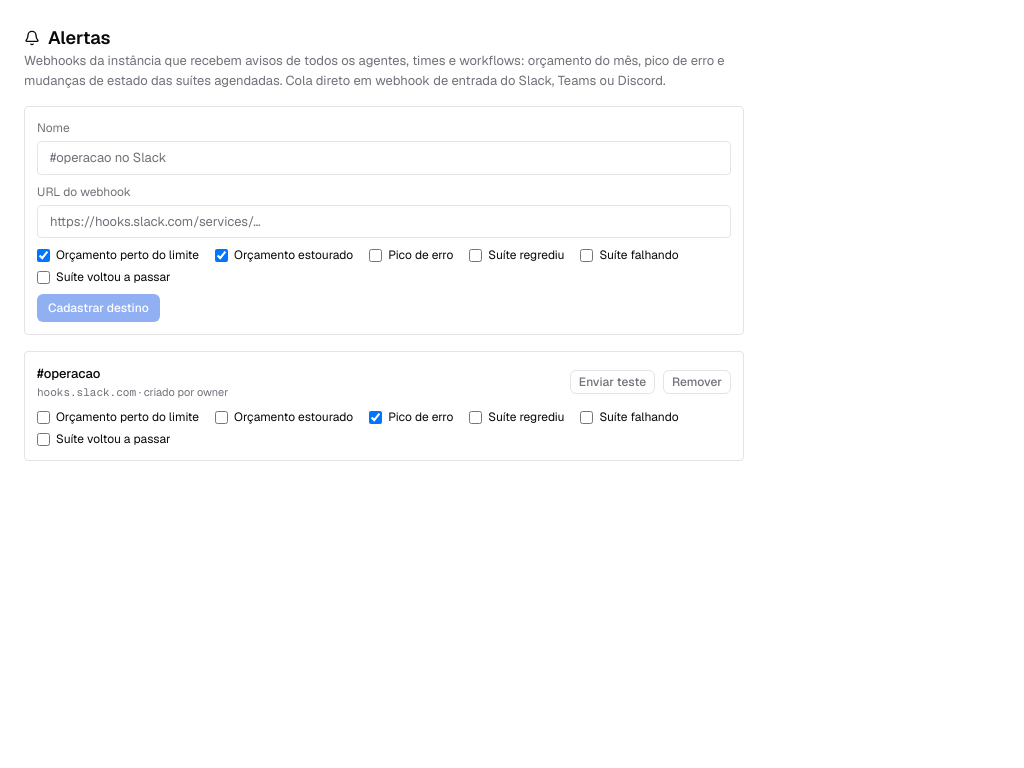
Test case: página de alertas › cadastra destino com os eventos marcados e mostra o segredo uma vez
The image size is (1024, 768).
Type "#financeiro" into the field labelled "Nome" at {"x": 384, "y": 158}, box [37,141,731,174]
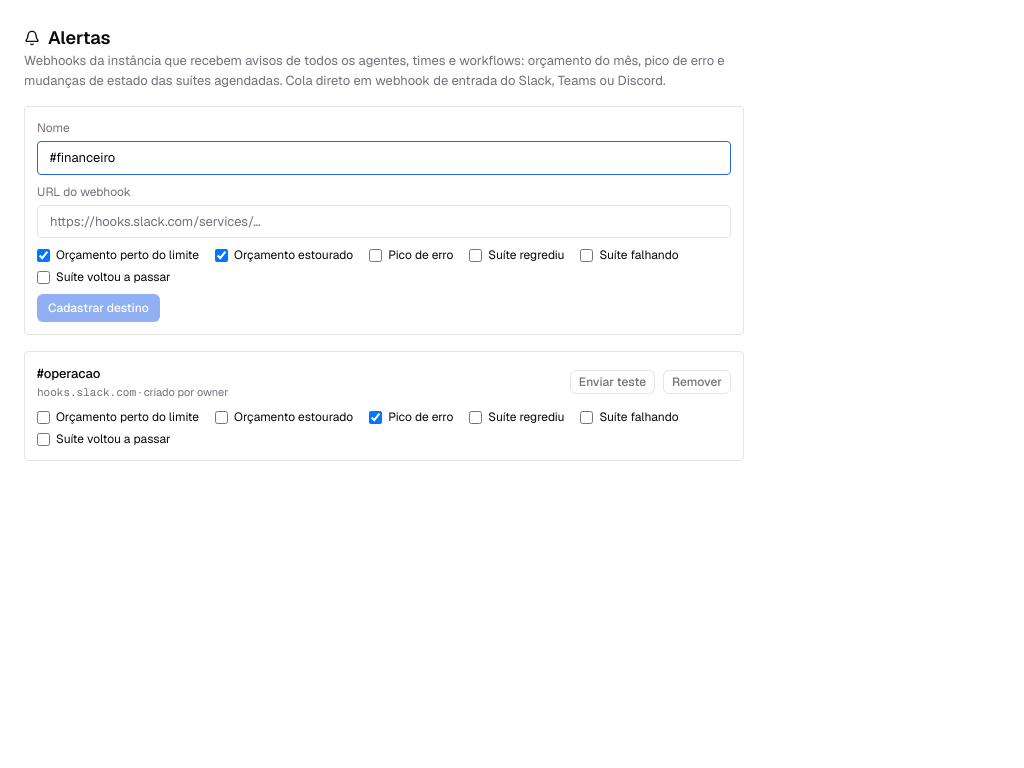
Type "https://hooks.slack.com/x" into the field labelled "URL do webhook" at {"x": 384, "y": 221}, box [37,204,731,238]
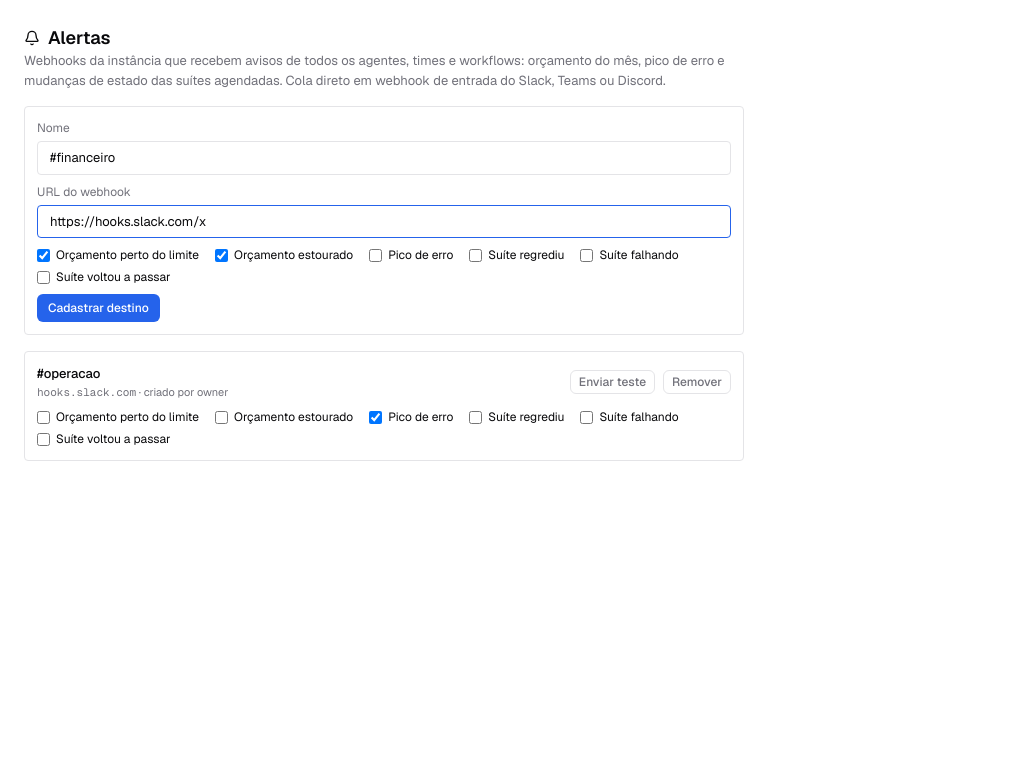
Click the checkbox labelled "Pico de erro" below "URL do webhook" at {"x": 376, "y": 255}, box [369,248,382,262]
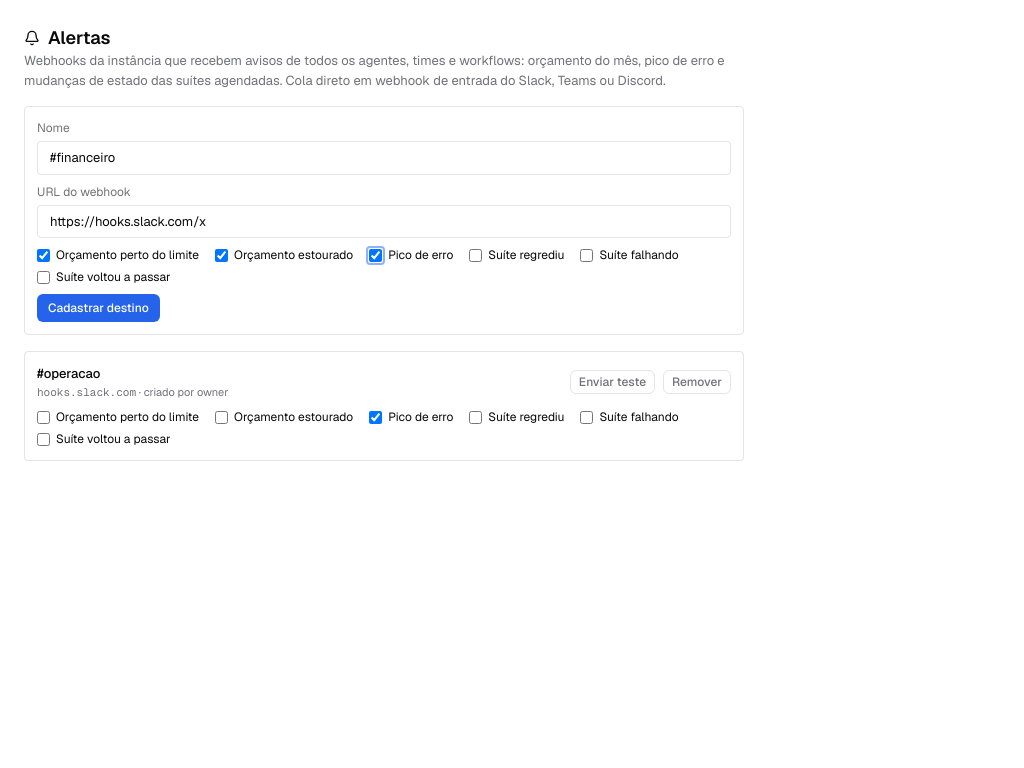
Click the button "Cadastrar destino" at {"x": 98, "y": 308}, box [37,294,160,322]
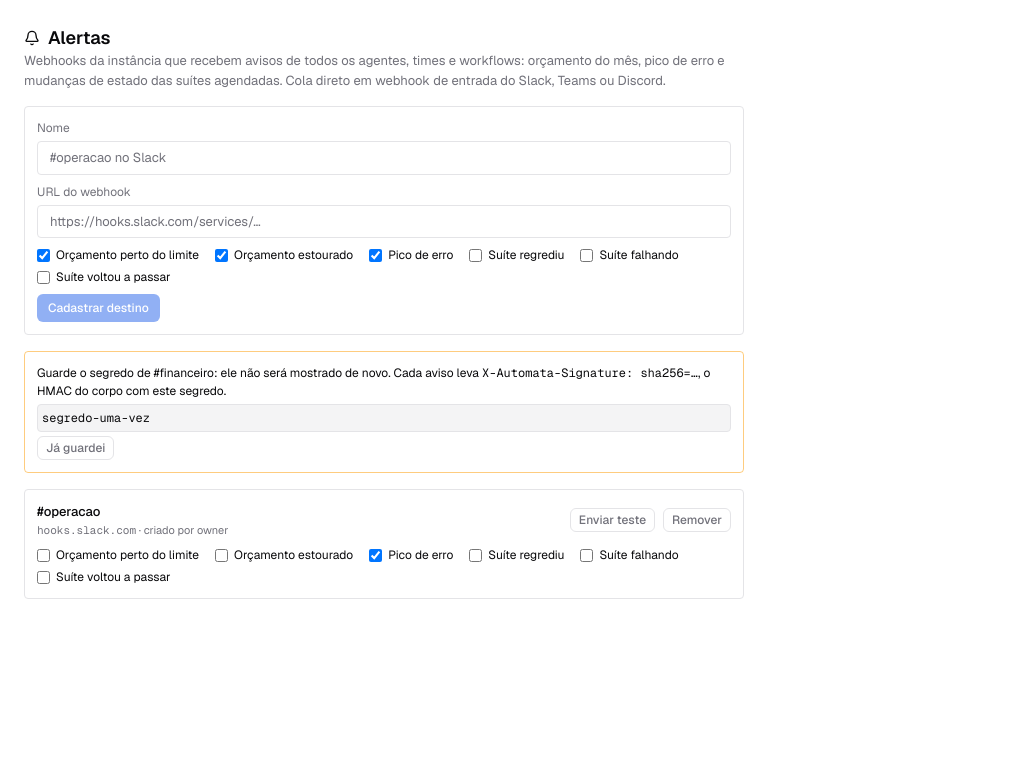
Result: the dialog named "Segredo do destino" shows "segredo-uma-vez" at [42,410,150,426]
Click the button "Já guardei" at {"x": 76, "y": 448}, box [37,436,114,460]
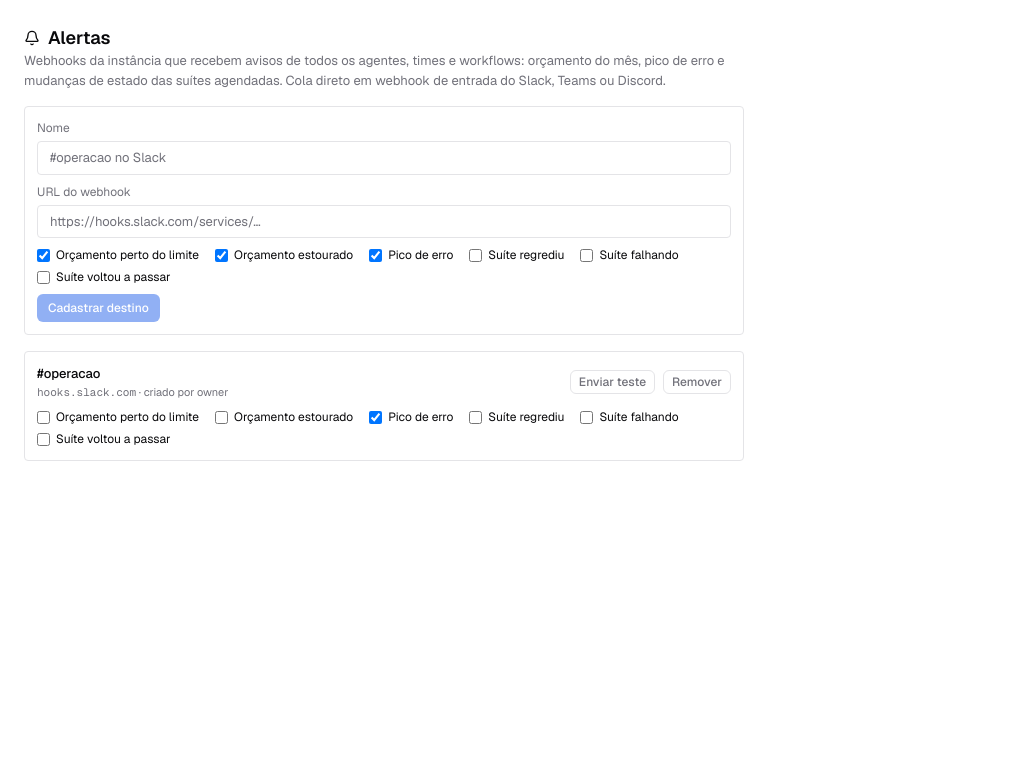
Result: the text "segredo-uma-vez" is gone
